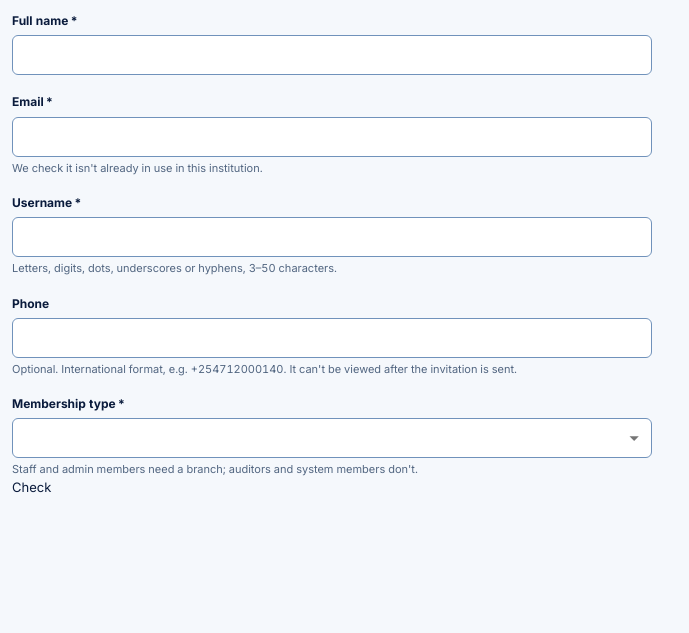
Test case: InviteIdentityFields › offers the four membership types
Click the dropdown named "Membership type": (332, 438) [12,418,652,458]
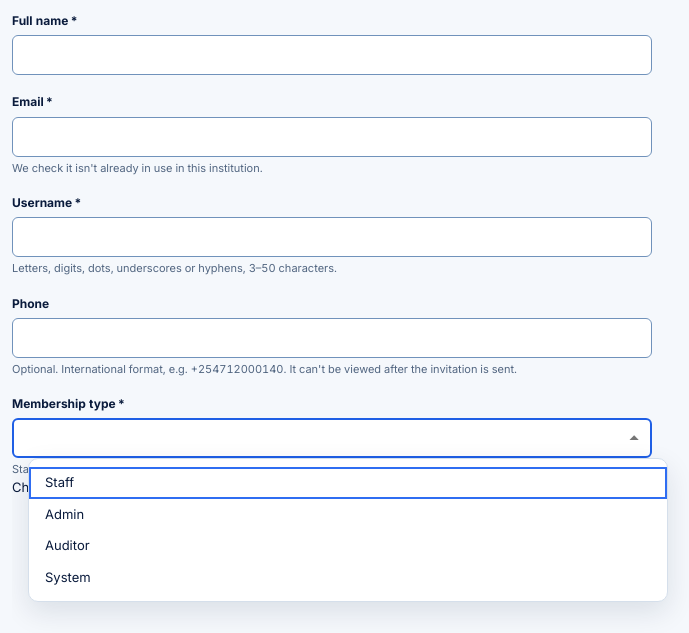
Result: the options read "Staff", "Admin", "Auditor", "System", in this order at [29,467,667,498]; [45,506,84,522]; [45,537,90,553]; [45,568,91,584]
